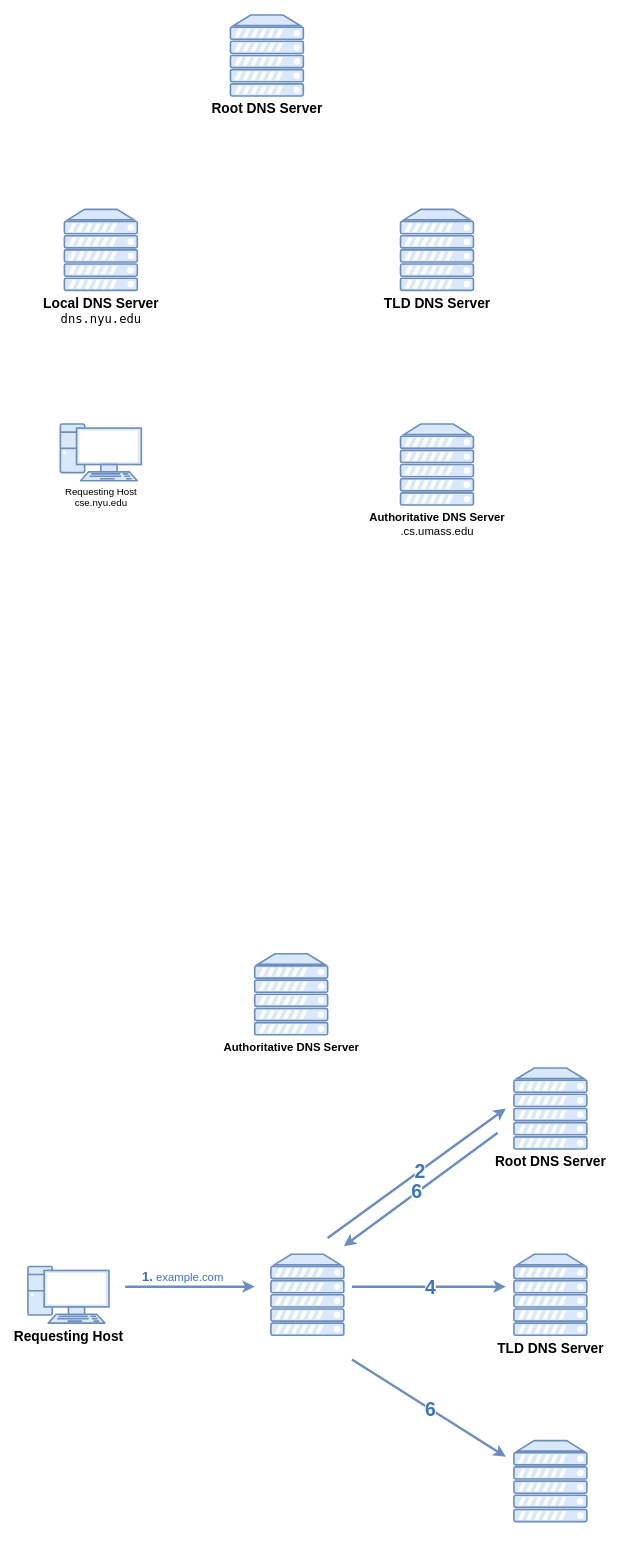
The diagram is 620 pixels wide and 1557 high, and some of its shapes have lost their labels. Here are the shapes that lost their labels. From the top down, the box of each, then its label:
(270, 1253, 344, 1336): Recursive resolver
(513, 1439, 587, 1522): SLD DNS Server
